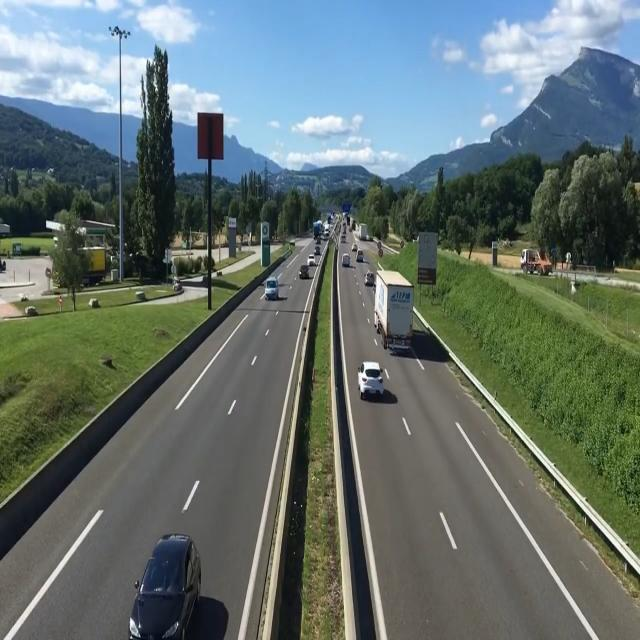car: (132, 528, 203, 640), (357, 357, 390, 404), (260, 270, 288, 304), (362, 264, 377, 291), (298, 259, 310, 283), (341, 252, 351, 272)
truck: (376, 268, 414, 364)
